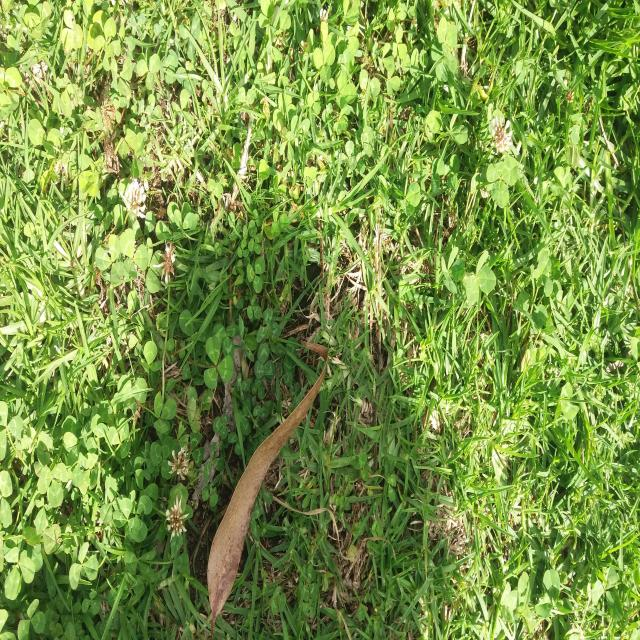Four Leaf Clover: (441, 246, 465, 293)
